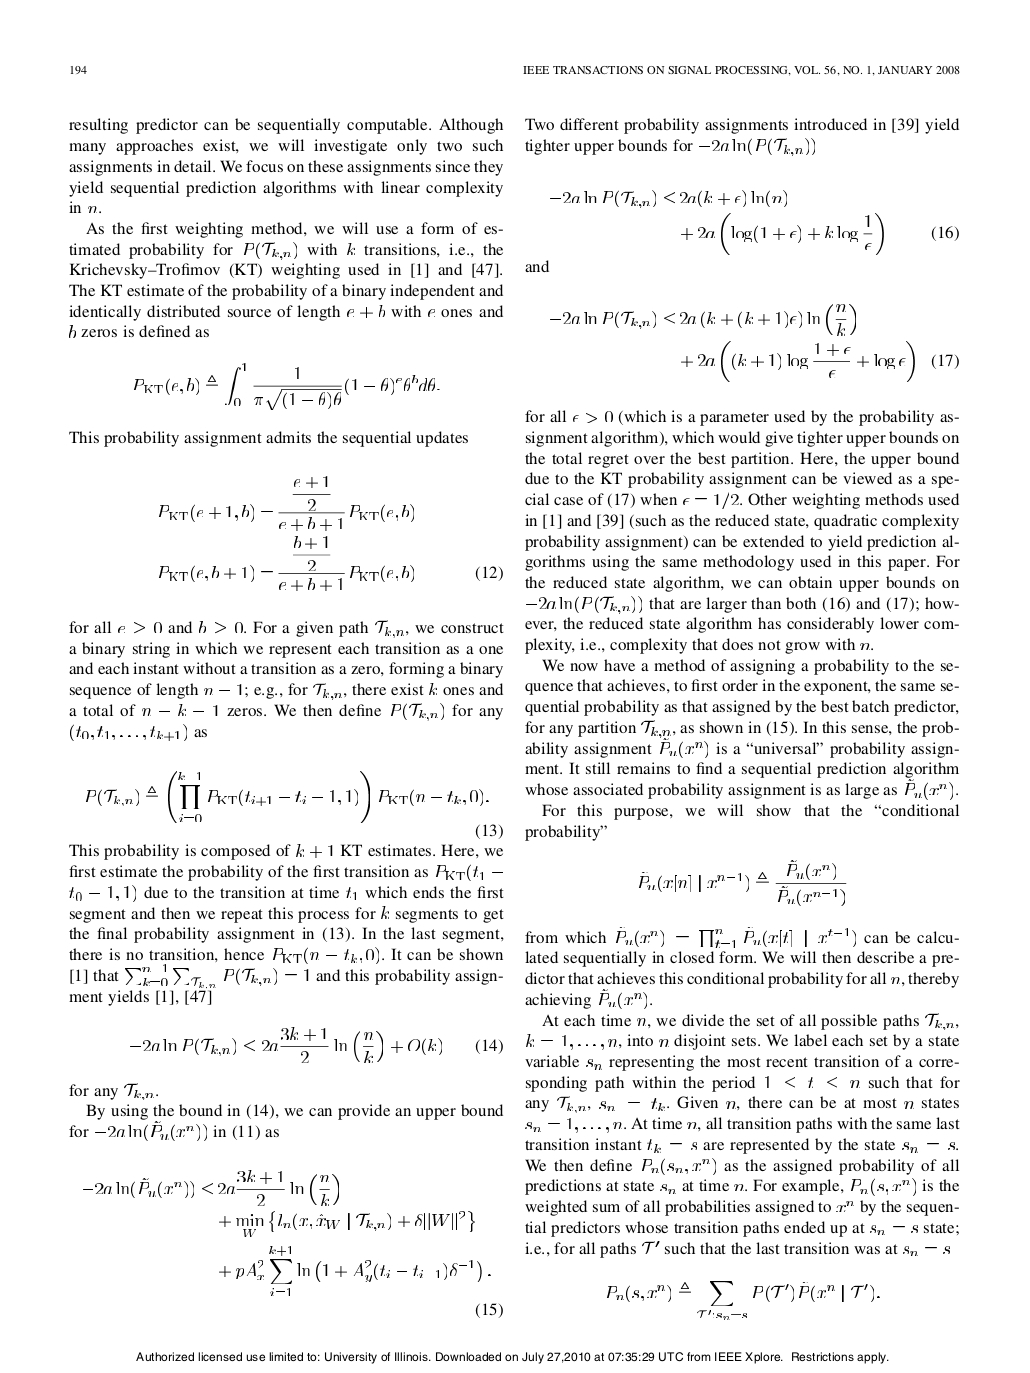formula: (85, 770, 502, 839), (159, 536, 502, 590), (134, 362, 439, 410), (130, 1025, 502, 1062), (159, 476, 413, 530), (219, 1246, 490, 1295), (681, 212, 958, 255), (681, 340, 958, 382), (607, 1280, 879, 1320), (550, 302, 855, 336), (83, 1169, 338, 1206), (639, 859, 846, 906), (219, 1210, 474, 1237)
